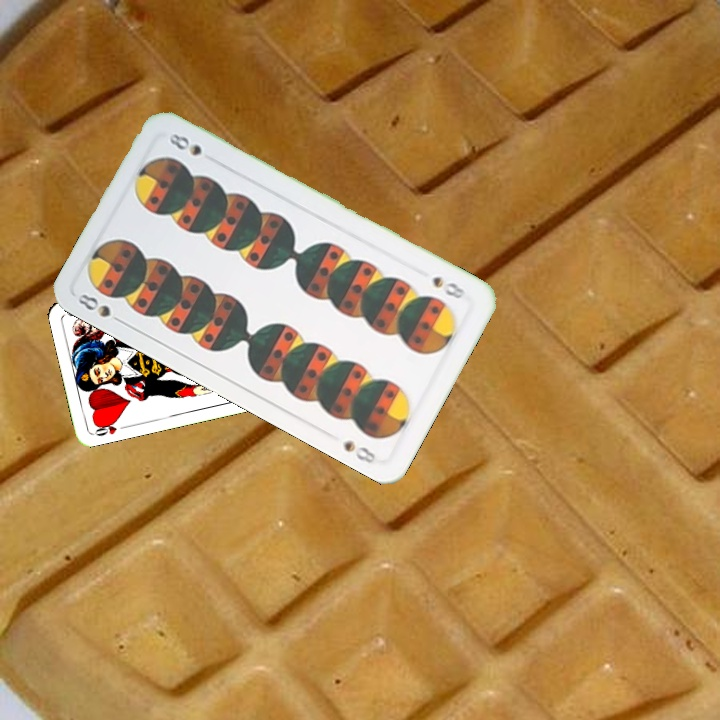HO: (90, 416, 130, 439)
S8: (73, 289, 128, 327), (428, 272, 468, 302)
